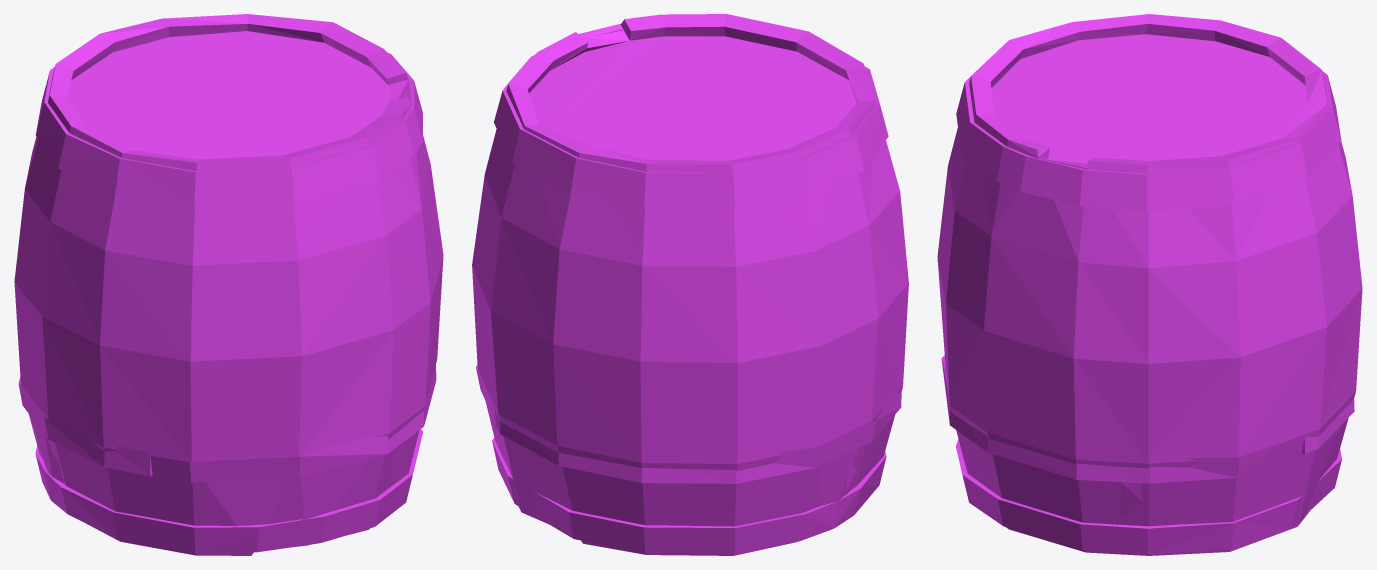
The model's file is Barrel.FBX.
3 views of the same model, side by side, from view 1: azimuth 30°, elevation 25°; view 2: azimuth 150°, elevation 25°; view 3: azimuth 270°, elevation 25° (orthographic).
Visible parts, largest first — view 1: Barrel; view 2: Barrel; view 3: Barrel.
Boxes of the visible parts, bbox=[...] form: Barrel: bbox=[14, 14, 443, 555]; Barrel: bbox=[472, 14, 908, 555]; Barrel: bbox=[937, 14, 1362, 555].
Size of what is drawn, in the model's own units: 47.78 by 47.16 by 48.
